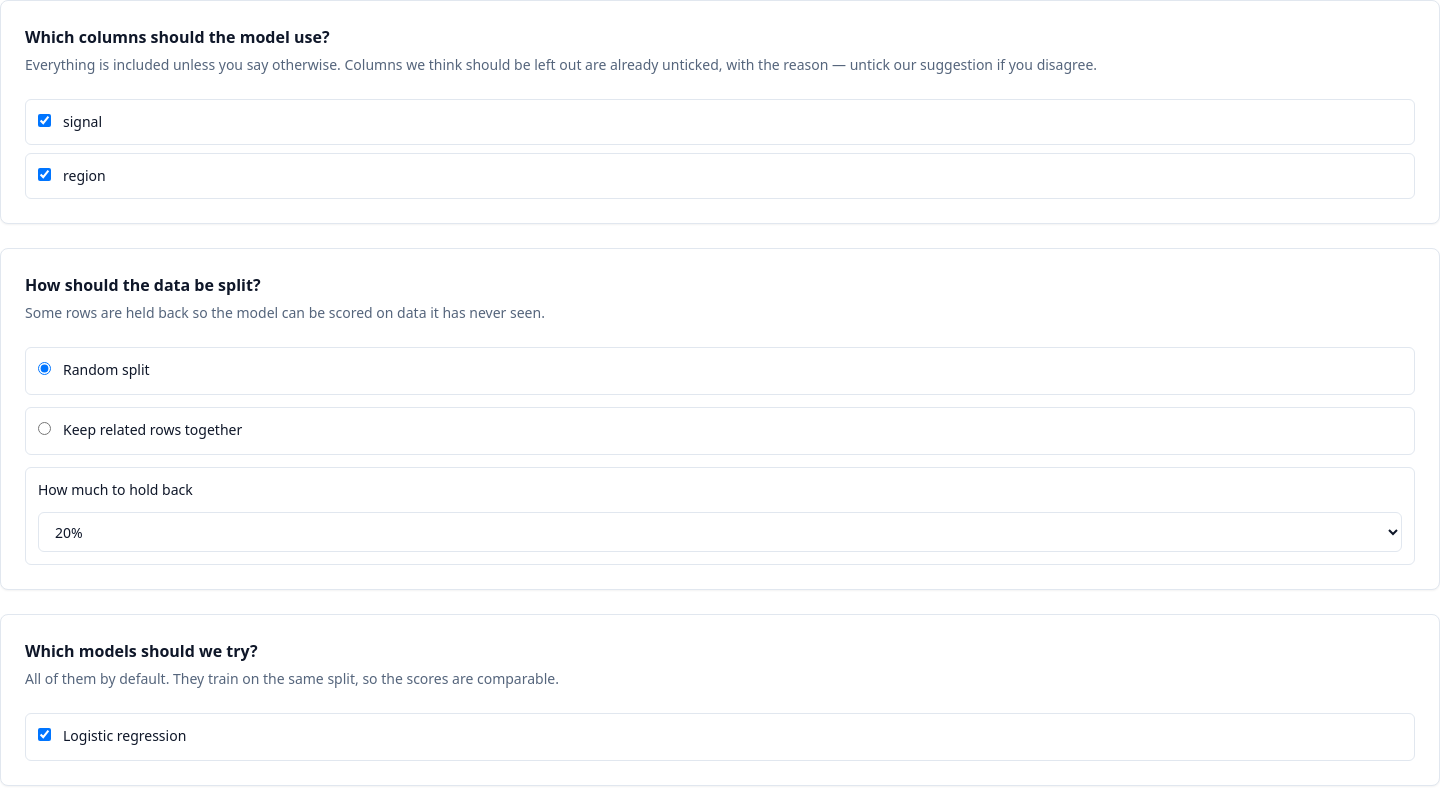
ModelPlanForm — grouped split › offers the repeating columns once grouping is chosen
This screenshot has width=1440, height=810.
Click the radio button labelled "Keep related rows together" at (44, 428), box [38, 422, 51, 435]
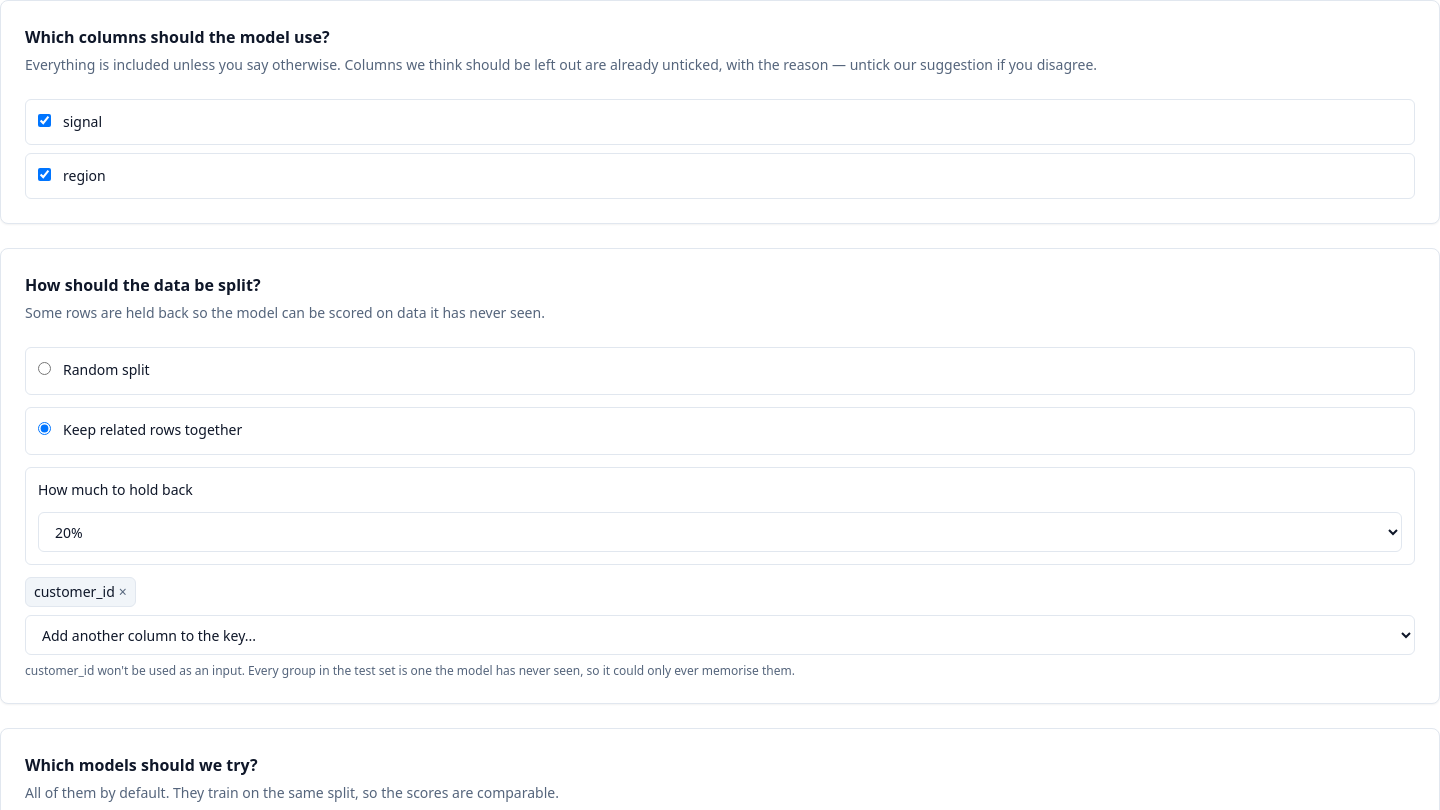
expect the element with test id "group-key" shows "customer_id": met, box [34, 582, 115, 601]
